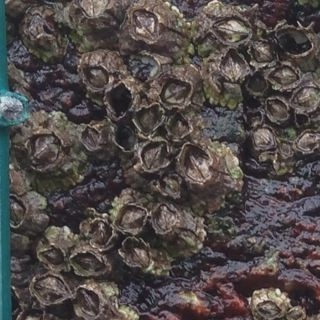Barnacle: (181, 143, 212, 183), (30, 134, 60, 169), (215, 17, 248, 46), (35, 276, 67, 304), (131, 8, 159, 40), (124, 238, 152, 269), (75, 287, 102, 317), (221, 52, 247, 80), (118, 205, 146, 230), (138, 105, 162, 134), (142, 142, 167, 169), (249, 39, 276, 64), (168, 110, 191, 139), (162, 79, 188, 104), (90, 219, 113, 247), (154, 203, 176, 232), (253, 297, 281, 319), (74, 252, 103, 273), (253, 125, 277, 150), (80, 0, 110, 20), (295, 85, 319, 109), (271, 66, 297, 88), (7, 196, 27, 224), (84, 67, 109, 89), (266, 99, 289, 122), (298, 129, 319, 154), (43, 246, 66, 267), (82, 123, 99, 147), (287, 307, 306, 319)
